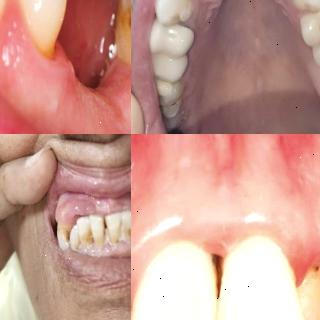Gum Swelling: (131, 186, 320, 309), (0, 0, 69, 82), (58, 197, 98, 219), (98, 245, 116, 257), (117, 241, 131, 254)
calculus: (201, 239, 233, 301), (297, 252, 320, 319)
cavities: (154, 77, 184, 115)
maligned: (291, 251, 320, 320)
plaque: (102, 224, 114, 247), (118, 226, 128, 244), (74, 238, 83, 254)
stains: (94, 221, 106, 249), (108, 225, 120, 249), (59, 225, 72, 245), (80, 227, 92, 248), (125, 222, 131, 241)
